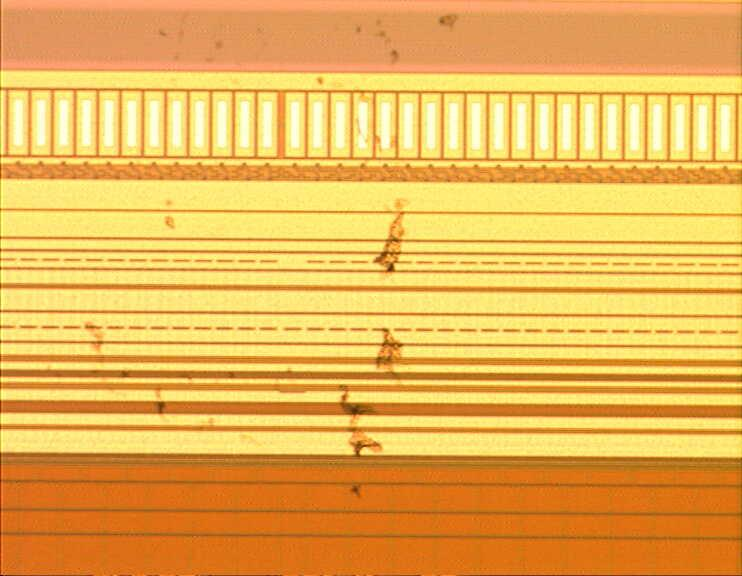PO CONTAMINATION: (79, 196, 411, 514), (311, 9, 462, 319)
